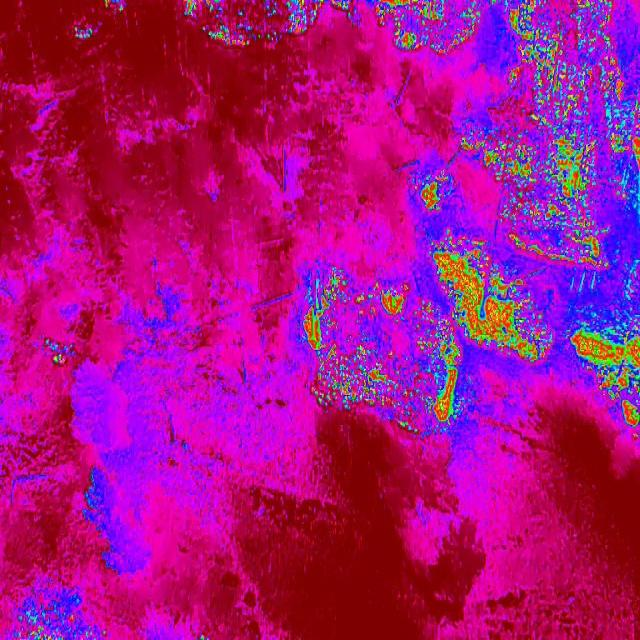fire: (493, 0, 640, 269), (303, 272, 465, 436), (431, 236, 554, 366), (566, 312, 640, 426), (178, 0, 322, 49), (378, 0, 484, 61), (13, 586, 105, 640), (409, 167, 466, 221), (44, 331, 86, 377), (460, 120, 494, 168), (330, 0, 364, 15)
